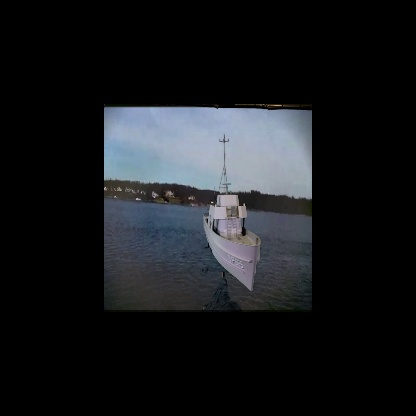YP689: (202, 133, 262, 293)
